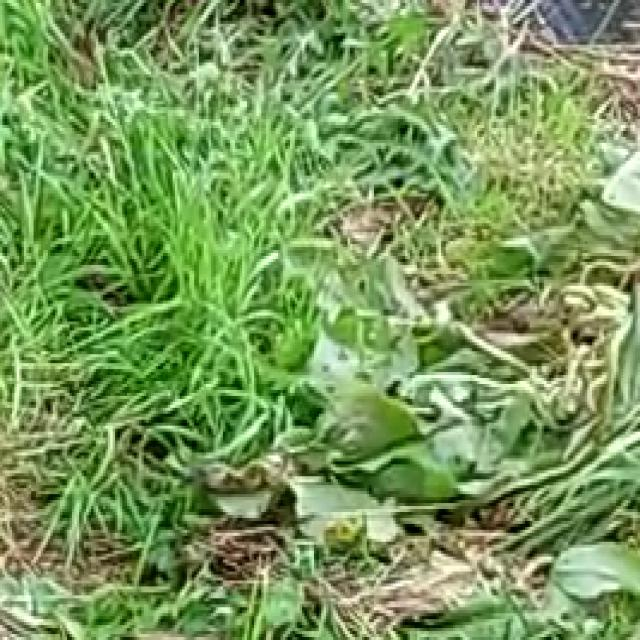organic waste: (230, 288, 566, 572)
